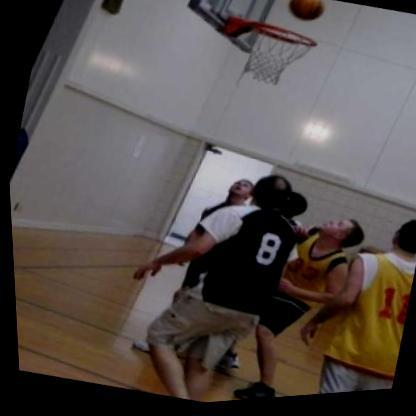basketball: (284, 0, 329, 33)
